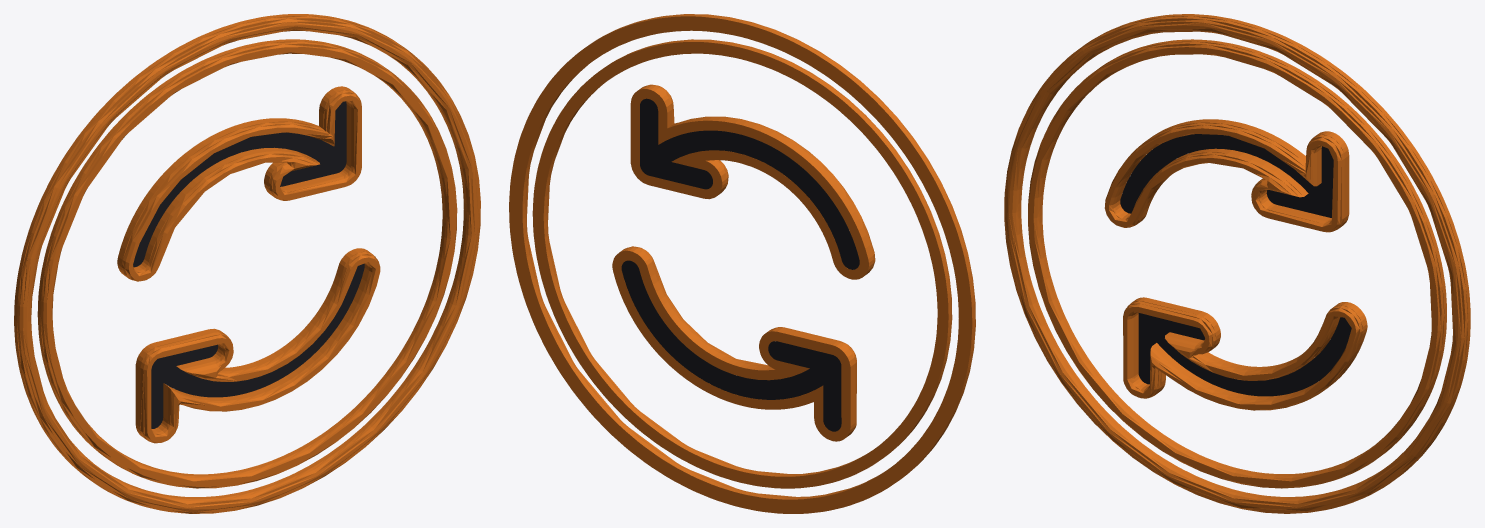
The model's file is cycles_t1.glb.
3 renders of one model, left to right at view 1: azimuth 30°, elevation 25°; view 2: azimuth 150°, elevation 25°; view 3: azimuth 330°, elevation 25°, orthographic.
Visible parts, largest first — view 1: lines, mark, mark_channel; view 2: lines, mark, mark_channel; view 3: lines, mark, mark_channel.
Part boxes in pixels (x1,y1,x2,y2): lines: (14,14,480,513); mark: (117,86,380,443); mark_channel: (133,101,364,428); lines: (509,14,975,513); mark: (612,84,875,441); mark_channel: (621,98,859,431); lines: (1004,14,1470,513); mark: (1104,119,1367,410); mark_channel: (1120,134,1351,396).
Size of the model in its own units: 0.758 by 0.758 by 0.0287.
